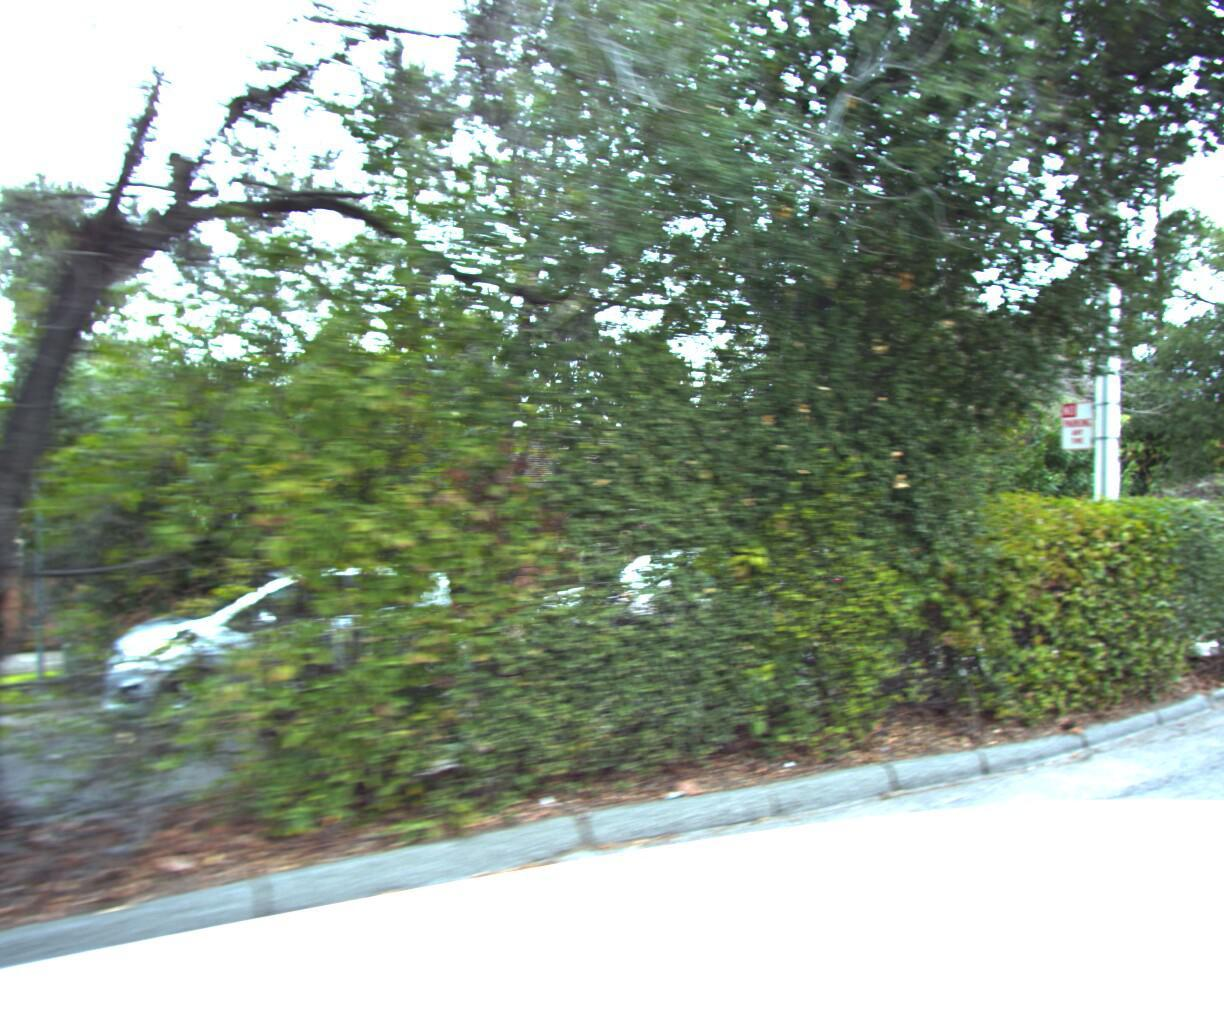car: (88, 547, 499, 759)
